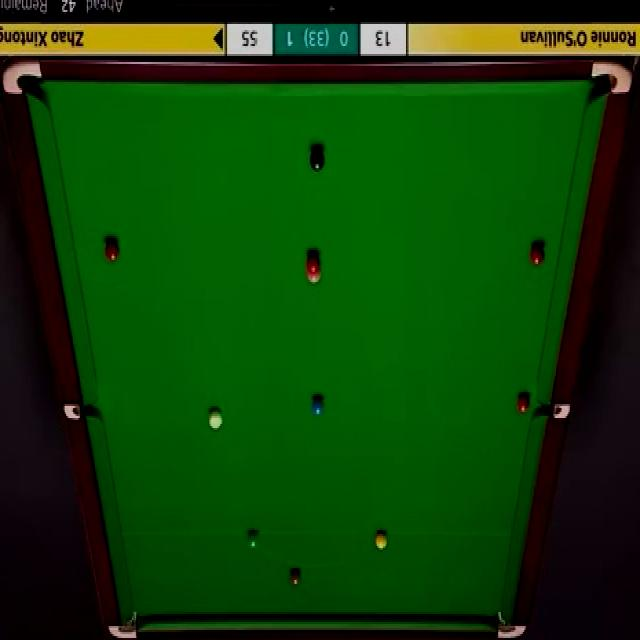black-ball: (308, 146, 326, 172)
blue-ball: (310, 396, 325, 418)
brown-ball: (289, 568, 302, 588)
green-ball: (247, 530, 260, 551)
pink-ball: (306, 270, 322, 284)
red-ball: (529, 242, 545, 268), (104, 239, 120, 264), (305, 252, 322, 273), (516, 392, 532, 414)
white-ball: (208, 407, 225, 432)
yellow-ball: (373, 529, 386, 549)
